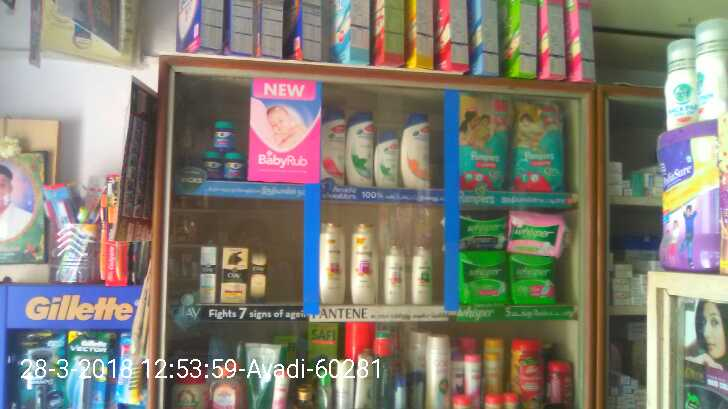vicks: (197, 109, 245, 182)
